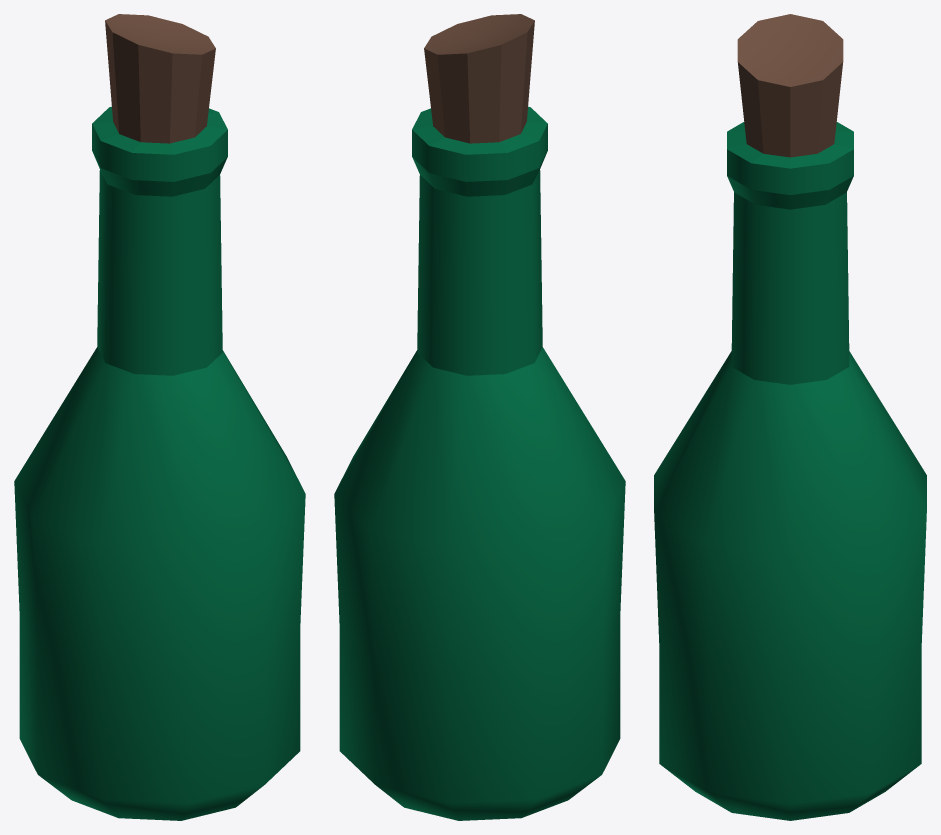
Rendered from PT_Medicine_Bottle_08.fbx.
3 views of the same model, side by side, from view 1: azimuth 30°, elevation 25°; view 2: azimuth 150°, elevation 25°; view 3: azimuth 270°, elevation 25° (orthographic). The views are drawn at different scales.
Visible parts, largest first — view 1: PT_Medicine_Bottle_08; view 2: PT_Medicine_Bottle_08; view 3: PT_Medicine_Bottle_08.
Boxes of the visible parts, x1,y1,x2,y2 form: PT_Medicine_Bottle_08: [14, 14, 305, 820]; PT_Medicine_Bottle_08: [334, 14, 625, 820]; PT_Medicine_Bottle_08: [654, 14, 926, 820].
Size of the model in its own units: 6.31 by 18.03 by 6.
